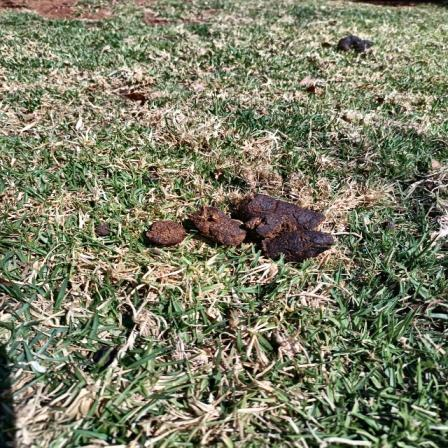dog-poop: (148, 183, 330, 264), (330, 28, 381, 59)
